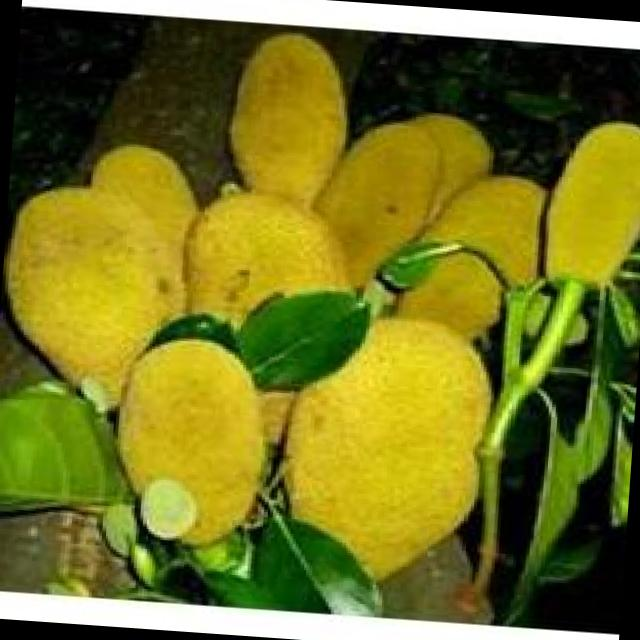Fruit: (208, 241, 570, 624), (76, 304, 296, 573), (193, 17, 374, 245), (519, 89, 640, 307)
